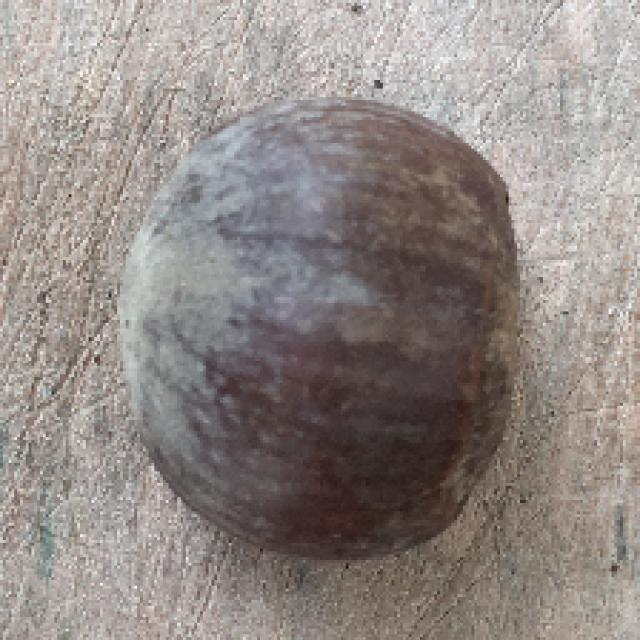damagedHazelnut: (98, 95, 546, 566)
